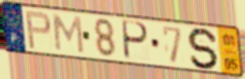7: (161, 25, 183, 65)
8: (92, 17, 117, 59)
M: (51, 13, 86, 56)
P: (122, 19, 151, 62), (24, 10, 54, 51)
S: (187, 26, 221, 71)
